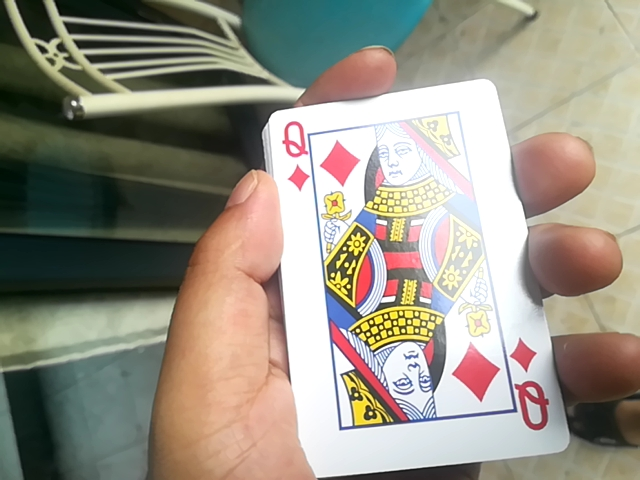fk q: (260, 85, 574, 479)
